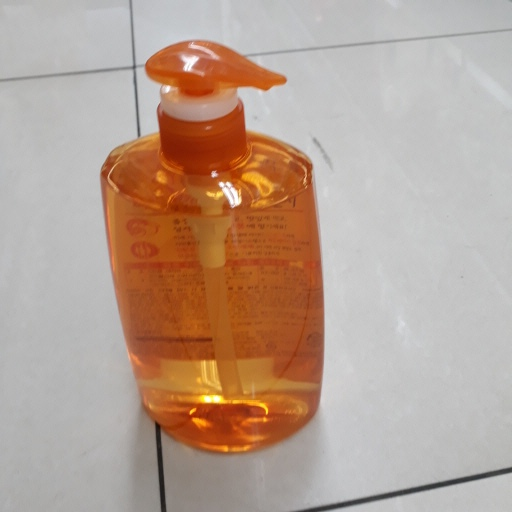Plastic_3: (100, 38, 326, 454)
